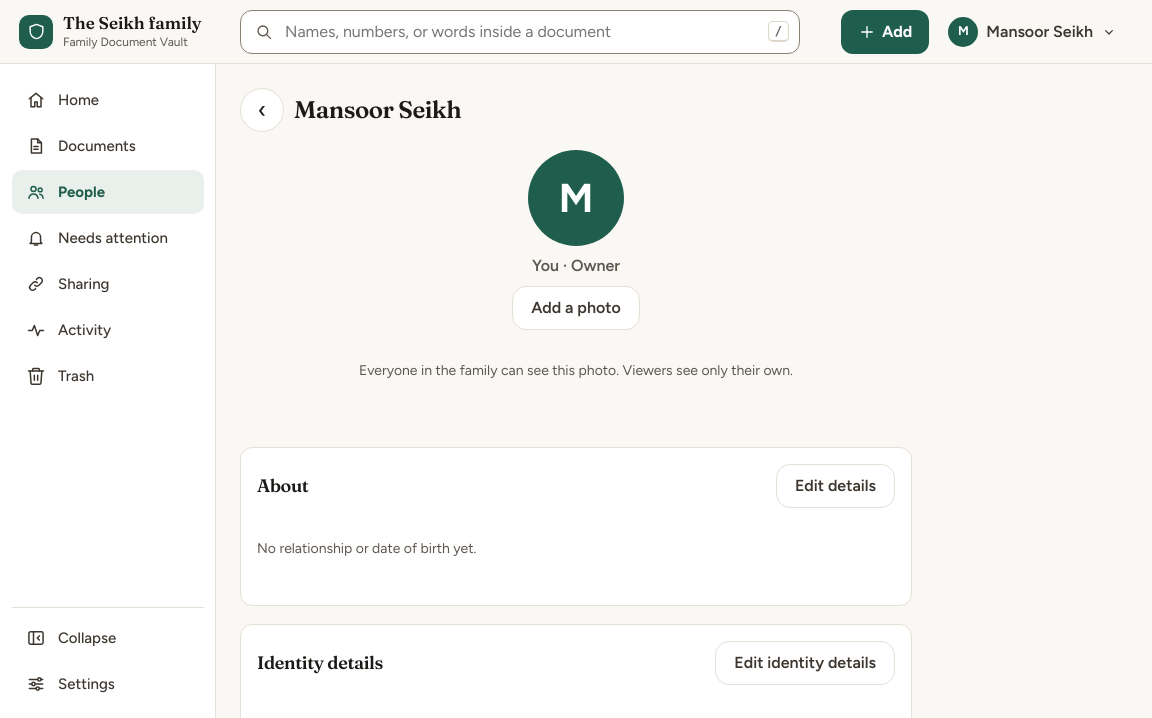
Test: a person's identity details (5.27) › the edit form sends only changes, and never clears a masked value
Click the button "Edit identity details": [805, 663] box [715,641,895,685]
(page scrolled)
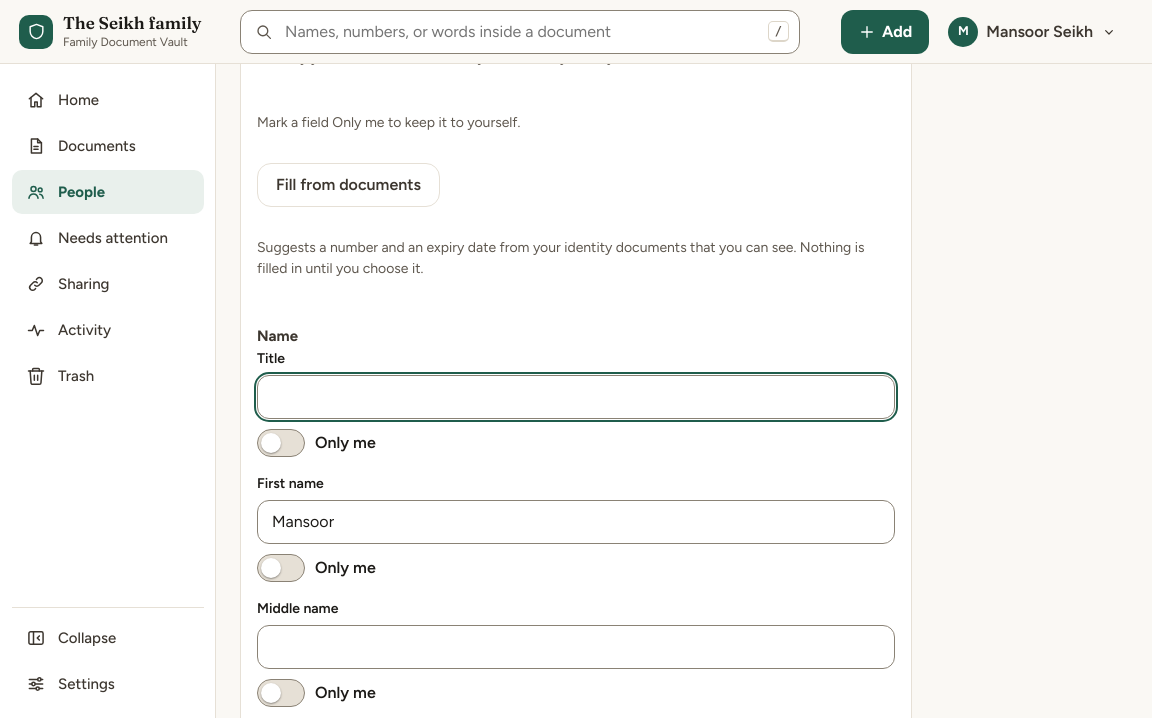
Replace the text in the field labelled "First name" with "Mansoor A.": [576, 522] box [257,500,895,544]
(page scrolled)
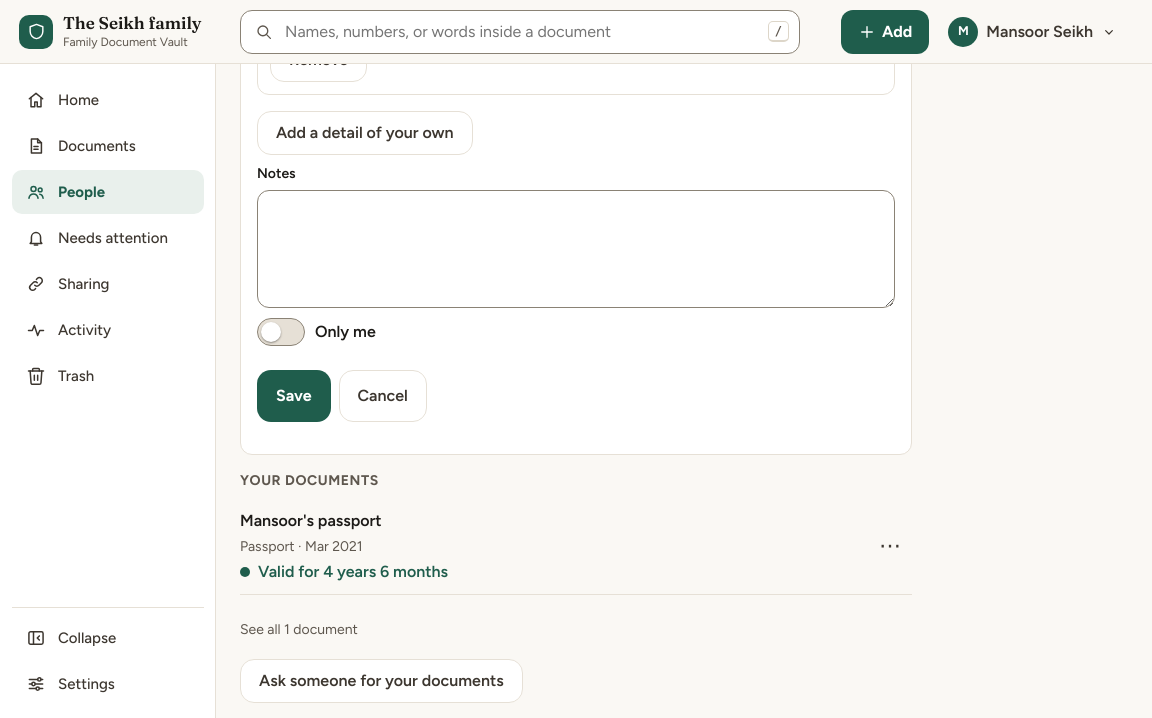
Click the button "Save": [294, 396] box [257,370,330,422]
(page scrolled)
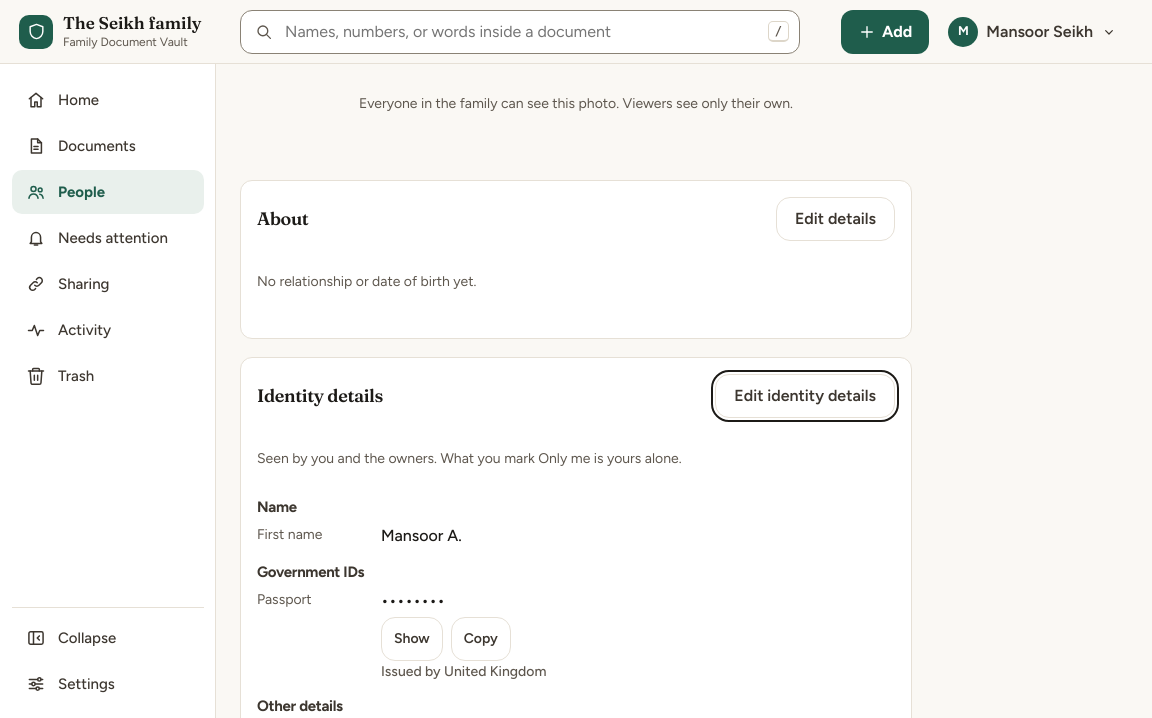
Saved with nothing changed: nothing is sent.
Click the button "Edit identity details": [805, 396] box [715,374,895,418]
(page scrolled)
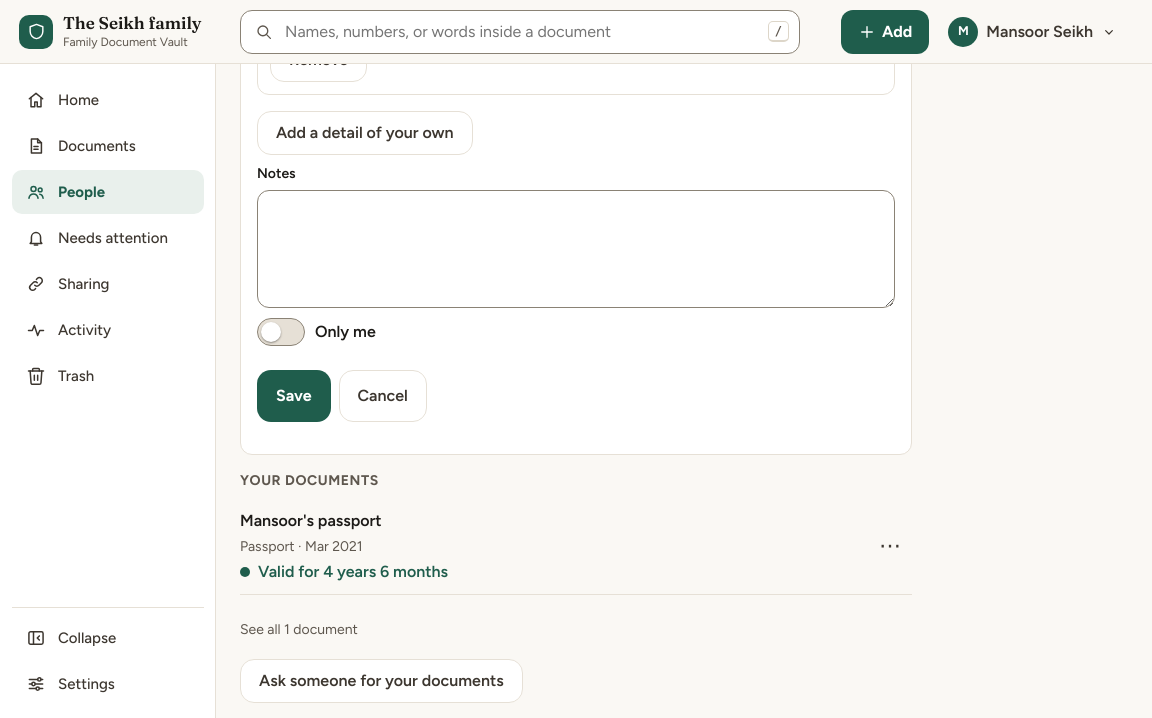
Click the button "Save": [294, 396] box [257,370,330,422]
(page scrolled)
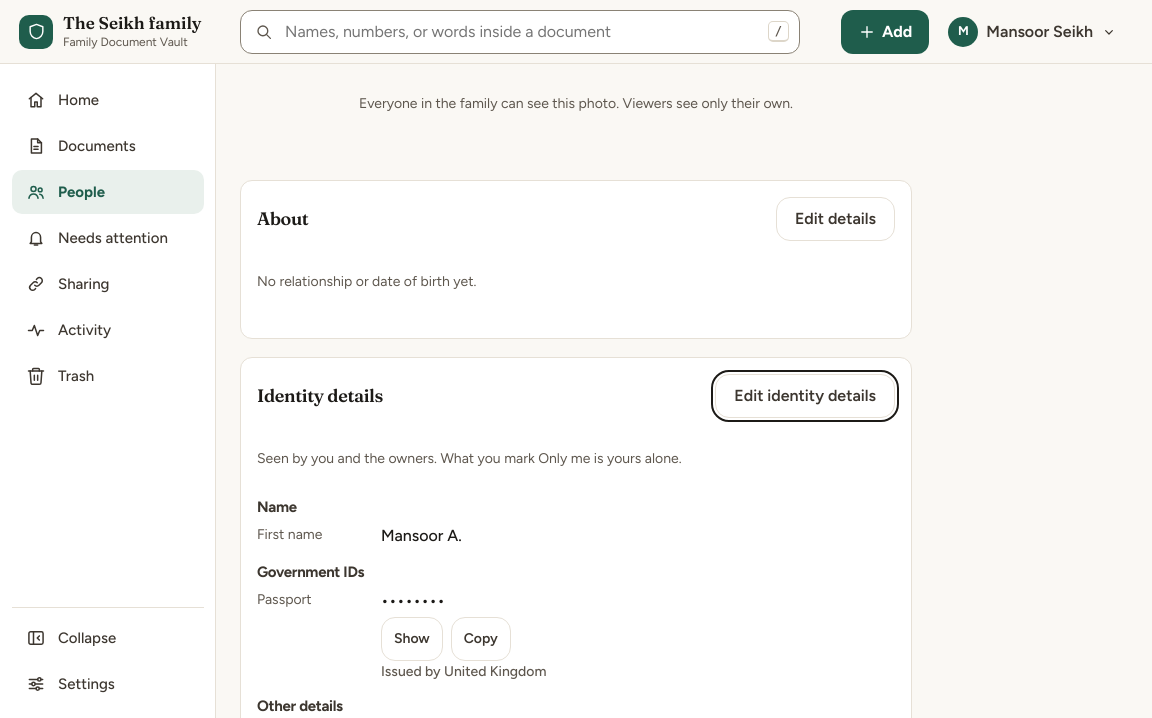
Expected: the button "Edit identity details" is shown, [715,374,895,418]
